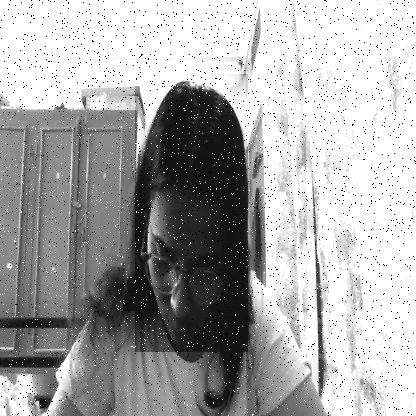Normal: (135, 74, 248, 352)
